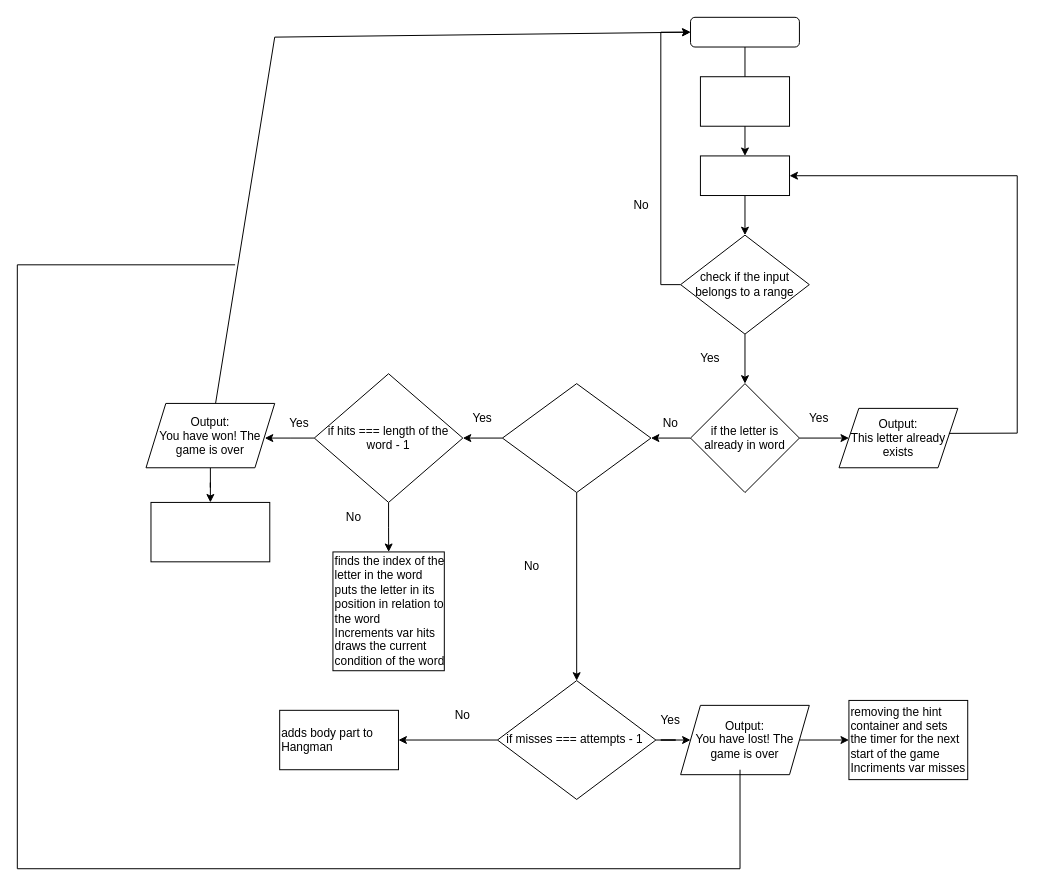
The diagram is 1042 pixels wide and 887 high, and some of its shapes have lost their labels. The centre of each missing label's shape, as x and y in pixels:
"if the word includes the letter" goes at (576,438).
"removing the hint container and sets the timer for the next start of the game" goes at (210,531).
"Start" goes at (744,31).
"var hits, misses; var attempts = 6;" goes at (744,101).
"Waiting for the click" goes at (744,175).
